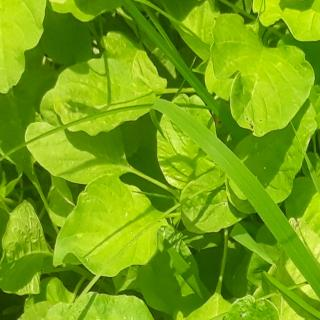virus_keriting: (228, 295, 274, 318)
